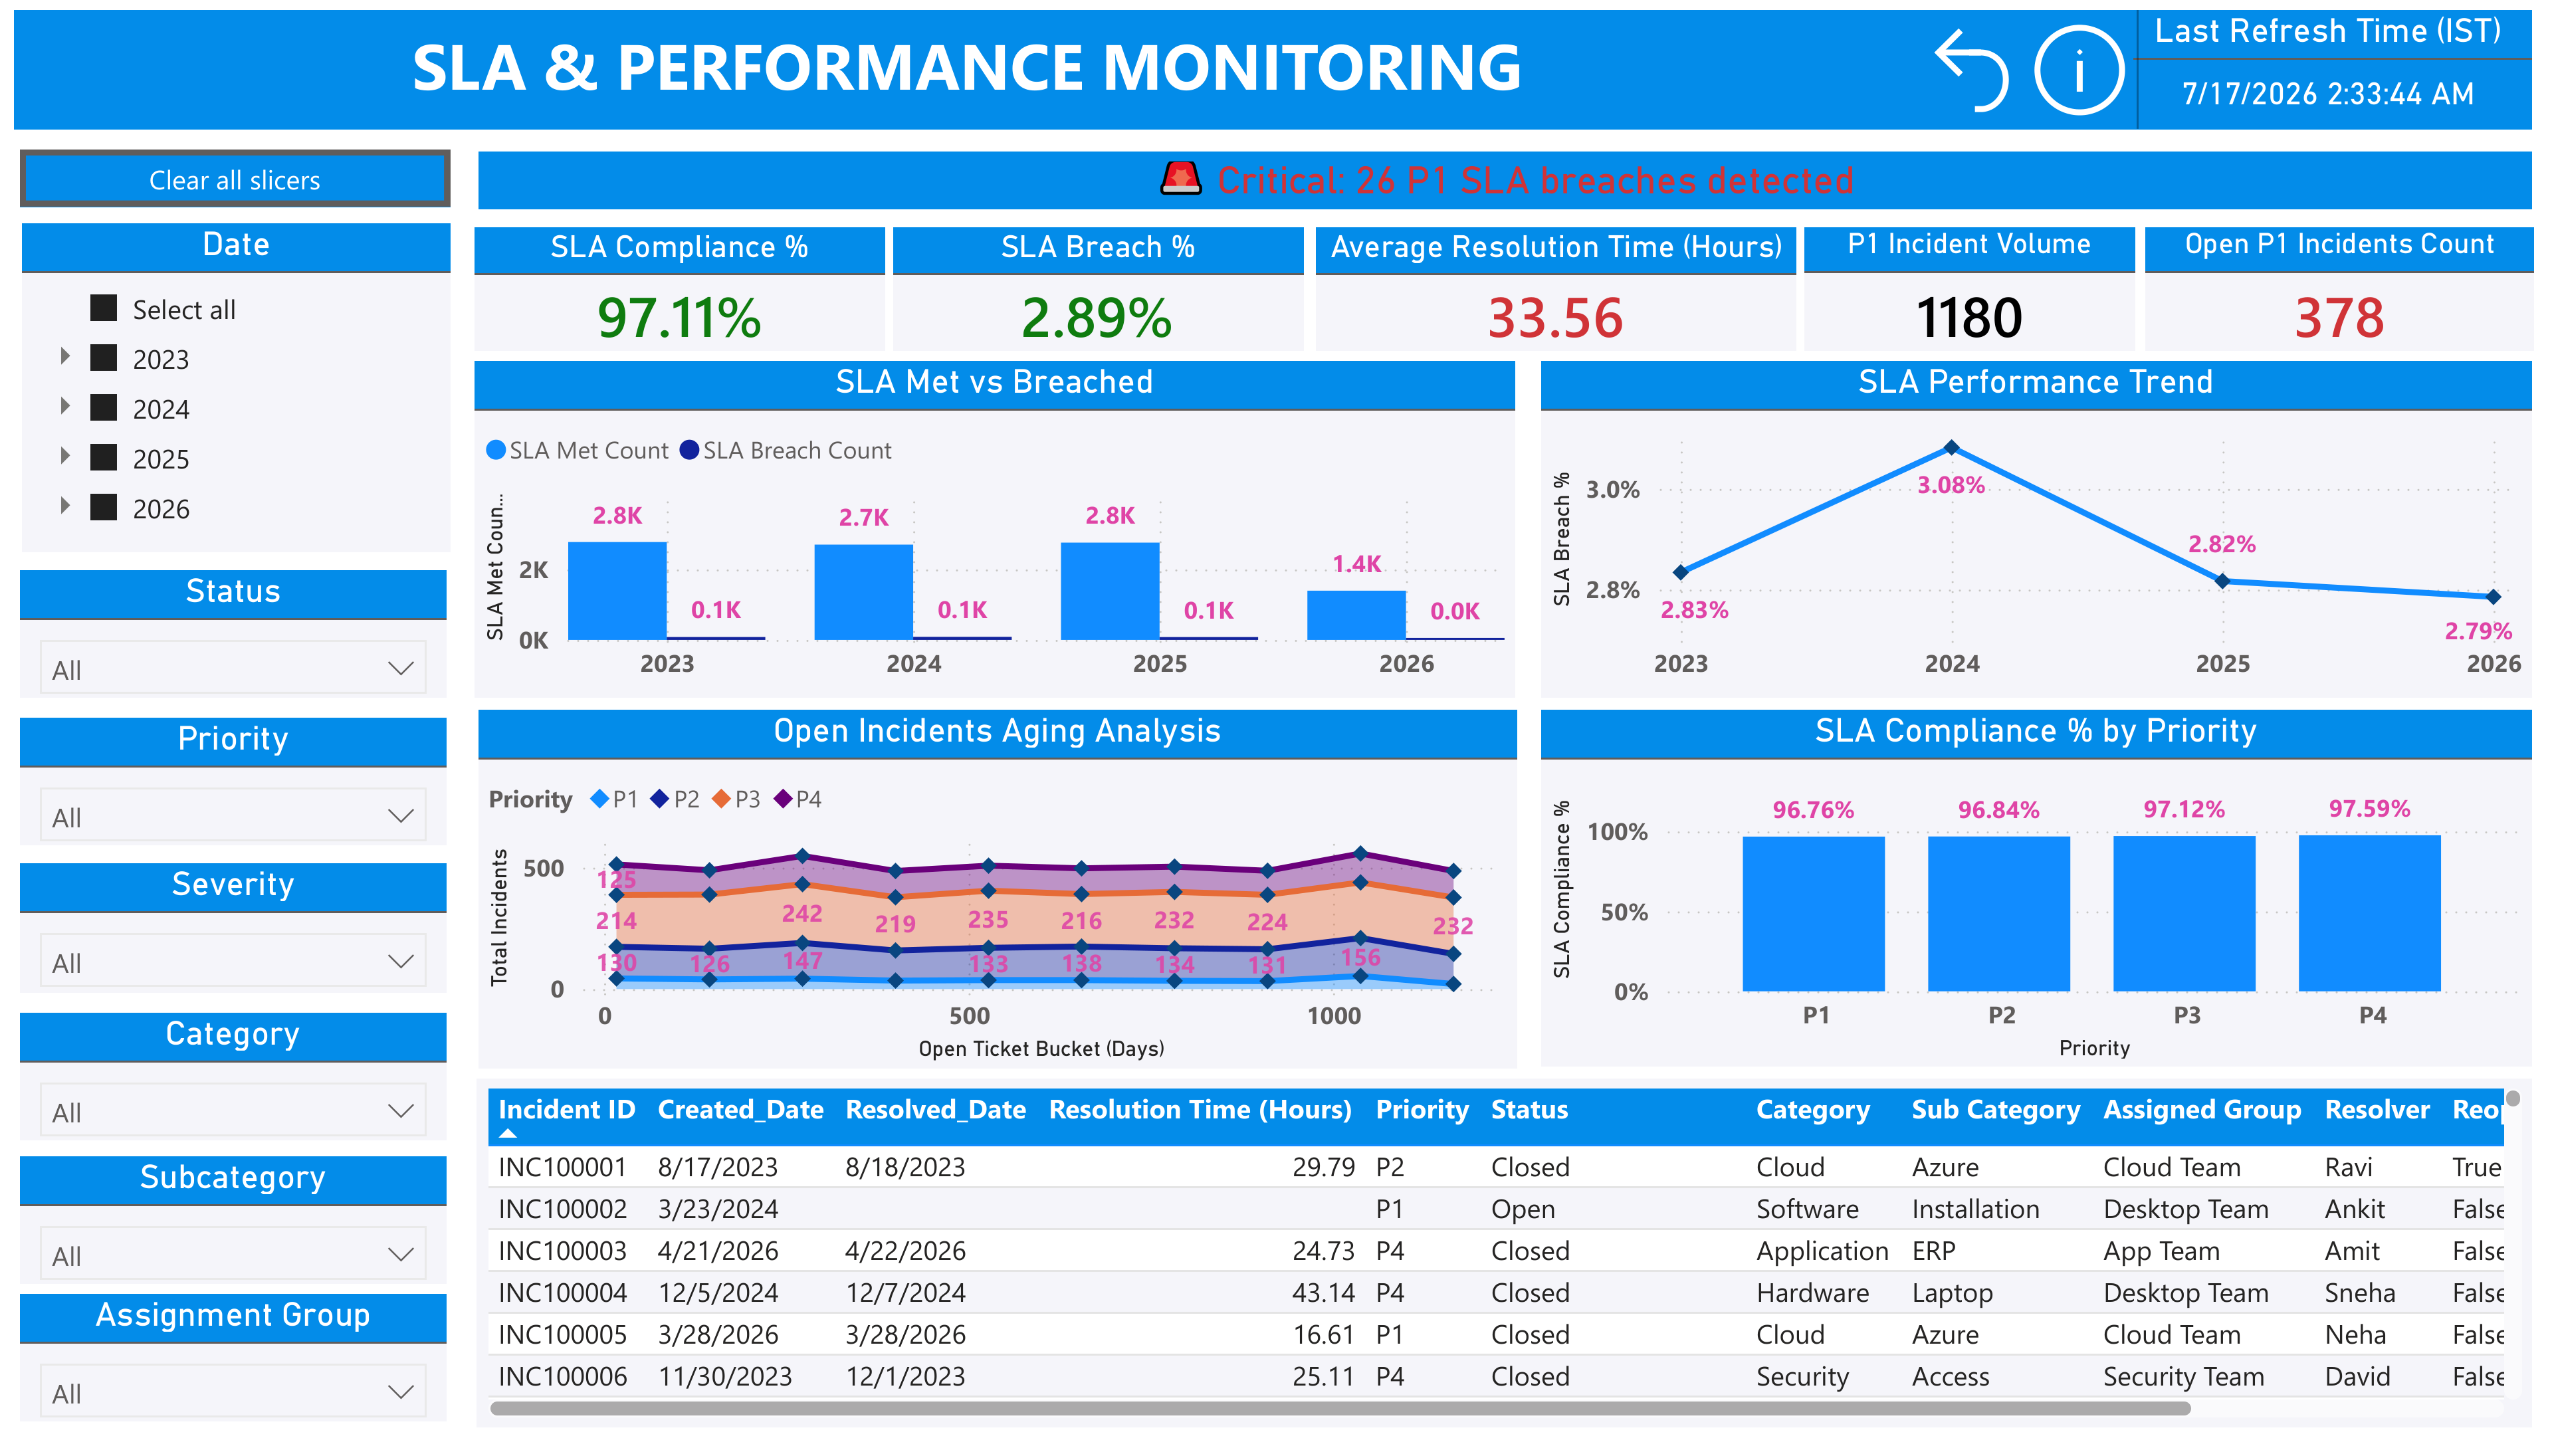

Layout of this report page (visuals, bound fields, positions):
{"tool":"powerbi","page":{"name":"SLA & PERFORMANCE MONITORING","canvas":[1280,720],"ordinal":2},"visuals":[{"type":"textbox","box":[10.2,0,1005.7,60],"z":0,"group":"g1"},{"type":"slicer","title":"Status","fields":{"Values":["Dim_Status.Status"]},"box":[10.2,280.7,213.8,64],"z":0,"group":"g2"},{"type":"lineChart","title":"Open Incidents Aging Analysis","fields":{"Y":["Measure.Total Incidents"],"Category":["Fact_Incident.Resolution Bucket"]},"box":[240.5,290.9,1028.2,185.8],"z":0},{"type":"card","title":"Last Refresh Time (IST)","fields":{"Values":["Min(Last Refresh Time (IST).Last Refresh Time (IST))"]},"box":[1064.5,0,205.1,59.6],"z":1000,"group":"g1"},{"type":"slicer","title":"Priority","fields":{"Values":["Dim_Priority.Priority"]},"box":[10.2,354.9,213.8,64],"z":1000,"group":"g2"},{"type":"card","title":"P1 Incident Volume","fields":{"Values":["Measure.Total P1 Incidents"]},"box":[240.2,485.5,260.4,100.8],"z":1000},{"type":"shape","box":[1058.9,0,20.4,59.6],"z":2000,"group":"g1"},{"type":"clusteredColumnChart","title":"SLA Compliance % by Priority","fields":{"Category":["Dim_Priority.Priority"],"Y":["Measure.SLA Compliance %"]},"box":[771.8,106.6,498.2,175.7],"z":2000},{"type":"slicer","title":"Severity","fields":{"Values":["Dim_Severity.Severity"]},"box":[10.2,427.6,213.8,65.5],"z":2000,"group":"g2"},{"type":"card","title":"Open Incidents Count","fields":{"Values":["Measure.Open Count"]},"box":[178.3,0,177.1,60],"z":3000},{"type":"slicer","title":"Category","fields":{"Values":["Dim_Category.Category"]},"box":[10.2,503.3,213.8,64],"z":3000,"group":"g2"},{"type":"slicer","title":"Subcategory","fields":{"Values":["Dim_Subcategory.Subcategory"]},"box":[10.2,574.5,213.8,64],"z":4000,"group":"g2"},{"type":"card","title":"P1 SLA Breach Count","fields":{"Values":["Measure.P1 SLA Breach Count"]},"box":[240.2,598,260.4,110.9],"z":4000},{"type":"clusteredColumnChart","title":"SLA Met vs Breached","fields":{"Y":["Measure.SLA Met Count","Measure.SLA Breach Count"],"Category":["Dim_Date.Date Hierarchy.Year","Dim_Date.Date Hierarchy.Quater","Dim_Date.Date Hierarchy.Month","Dim_Date.Date Hierarchy.Day"]},"box":[240.5,106.6,521.3,174.2],"z":5000},{"type":"slicer","title":"Assignment Group","fields":{"Values":["Dim_Assigned_Group.Assigned_Group"]},"box":[10.2,644.4,213.8,64],"z":5000,"group":"g2"},{"type":"slicer","title":"Date","fields":{"Values":["Dim_Date.Date Hierarchy.Year","Dim_Date.Date Hierarchy.Quater","Dim_Date.Date Hierarchy.Month","Dim_Date.Date Hierarchy.Day"]},"box":[10.7,106.7,215.1,164.5],"z":6000,"group":"g2"},{"type":"tableEx","title":"SLA Compliance by Assignment Group","fields":{"Values":["Fact_Incident.Incident_ID","Dim_Status.Status","Dim_Priority.Priority","Dim_Severity.Severity","Dim_Category.Category","Dim_Subcategory.Subcategory","Dim_Assigned_Group.Assigned_Group","Dim_Resolver.Resolver","Fact_Incident.Resolution_Time_Hours","Fact_Incident.Sla_Breach_Flag"]},"box":[512.3,485.5,757.6,223.4],"z":6000},{"type":"group","id":"g1","title":"ES Top Bar","box":[10.2,0,1259.4,60],"z":7000},{"type":"actionButton","box":[10,70,215.7,28.6],"z":7000,"group":"g2"},{"type":"group","id":"g2","title":"Slicer Group","box":[10,70,215.8,638.4],"z":8000},{"type":"actionButton","box":[1013.8,0,54.7,60.5],"z":9000},{"type":"card","fields":{"Values":["Measure.Critical Alert"]},"box":[240.5,70.6,1029.6,28.8],"z":10000}]}

Visuals, with their boxes in screenshot pixels (x1, y1, x2, y2), scaled from the page's 1280x720 canvas onto the 2552x1456 screenshot:
textbox: 21:0:2026:122
"Status" slicer: 21:568:447:697
"Open Incidents Aging Analysis" lineChart: 480:588:2529:964
"Last Refresh Time (IST)" card: 2123:0:2531:120
"Priority" slicer: 21:718:447:847
"P1 Incident Volume" card: 479:982:998:1186
shape: 2111:0:2152:120
"SLA Compliance % by Priority" clusteredColumnChart: 1539:215:2532:571
"Severity" slicer: 21:865:447:997
"Open Incidents Count" card: 356:0:708:122
"Category" slicer: 21:1018:447:1147
"Subcategory" slicer: 21:1162:447:1291
"P1 SLA Breach Count" card: 479:1209:998:1433
"SLA Met vs Breached" clusteredColumnChart: 480:215:1519:568
"Assignment Group" slicer: 21:1303:447:1433
"Date" slicer: 21:216:450:548
"SLA Compliance by Assignment Group" tableEx: 1021:982:2532:1433
"ES Top Bar" group: 21:0:2531:122
actionButton: 20:142:450:199
"Slicer Group" group: 20:142:450:1433
actionButton: 2021:0:2131:122
card - Measure.Critical Alert: 480:143:2532:201
